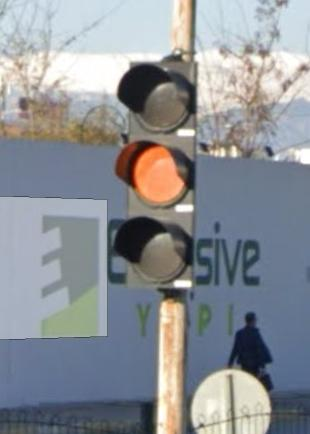yellowlight: (119, 55, 200, 294)
